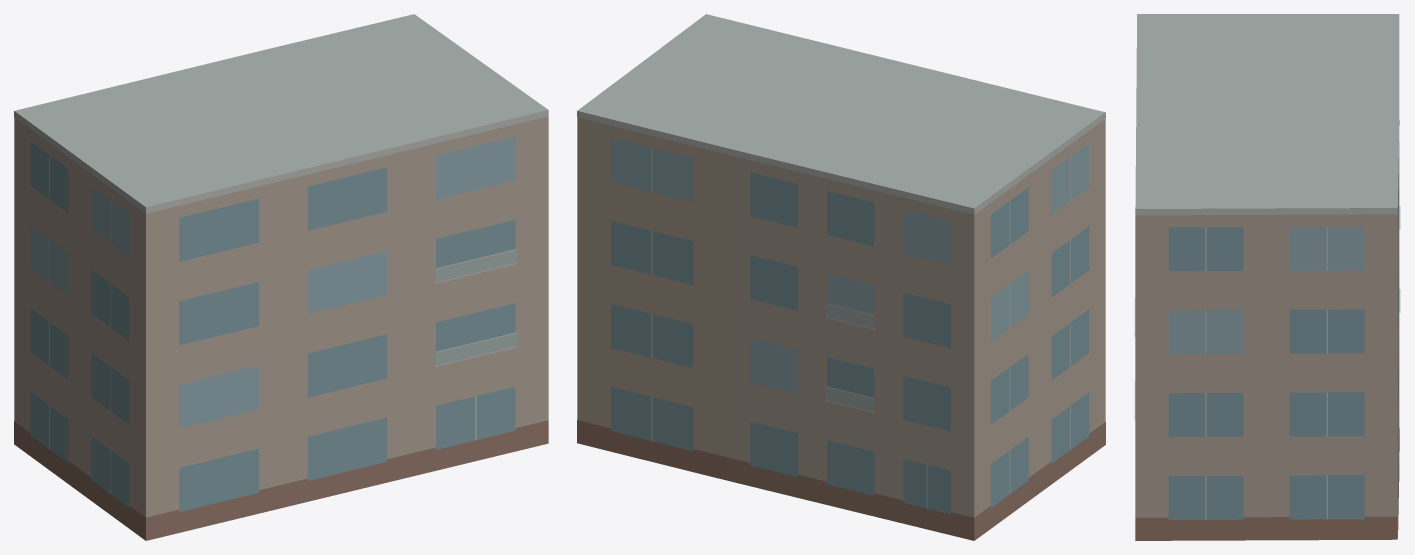
Rendered from survey-upis-32631866.glb.
The picture shows the model from 3 angles, left to right: view 1: azimuth 30°, elevation 25°; view 2: azimuth 150°, elevation 25°; view 3: azimuth 270°, elevation 25°; orthographic projection.
Visible parts, largest first — view 1: survey-upis-32631866.tmp; view 2: survey-upis-32631866.tmp; view 3: survey-upis-32631866.tmp.
Boxes of the visible parts, x1,y1,x2,y2 form: survey-upis-32631866.tmp: (14, 14, 548, 540); survey-upis-32631866.tmp: (577, 14, 1105, 540); survey-upis-32631866.tmp: (1134, 14, 1400, 540).
Size of the model in its own units: 16.15 by 12.8 by 9.3.
